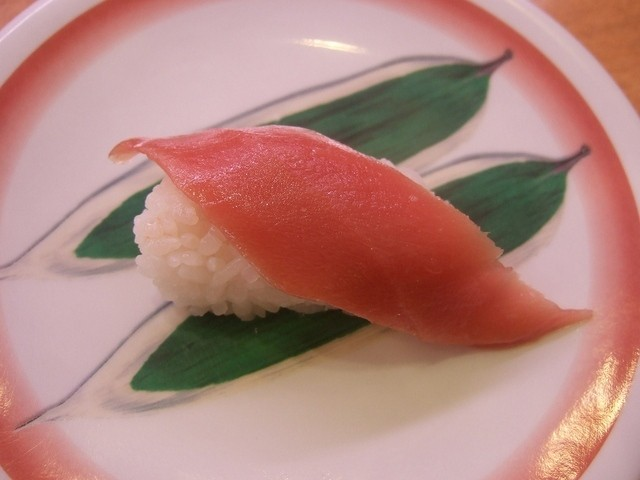medium_fatty_tuna: (105, 129, 593, 358)
